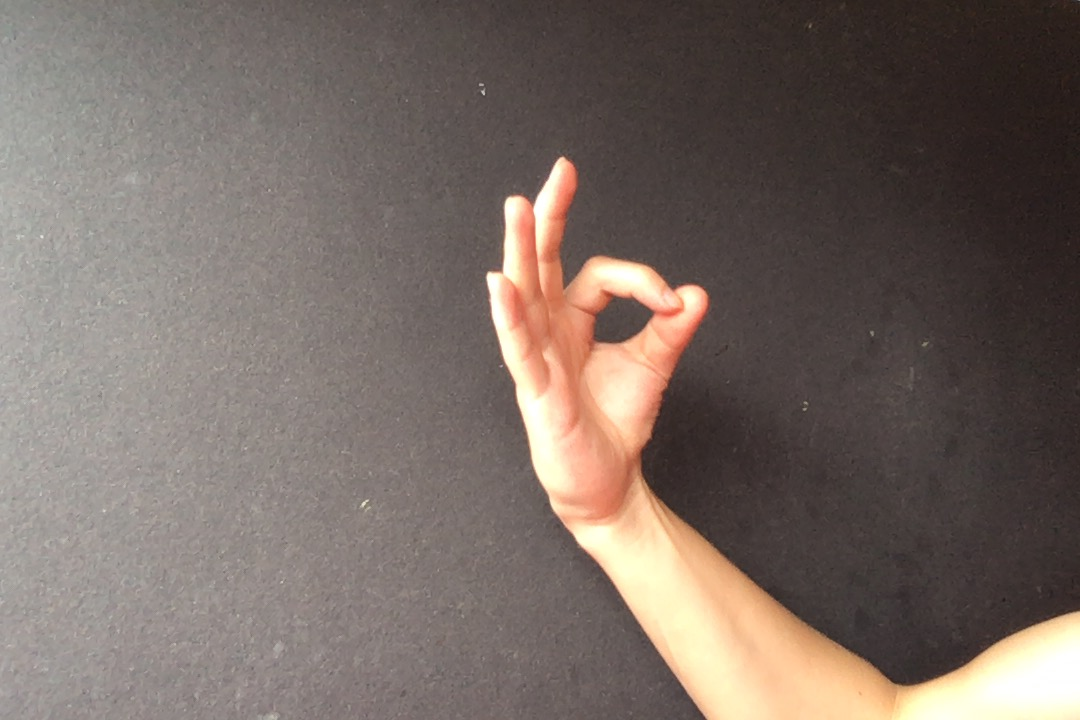oksign: (473, 153, 717, 526)
